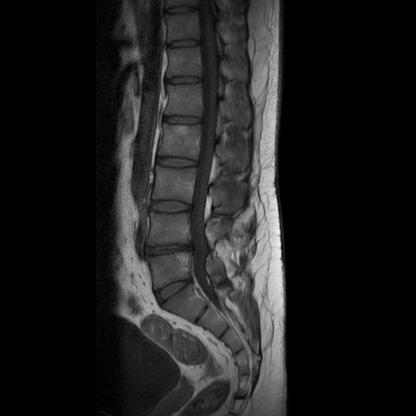Disc Bulgerotation: (144, 241, 191, 263)
